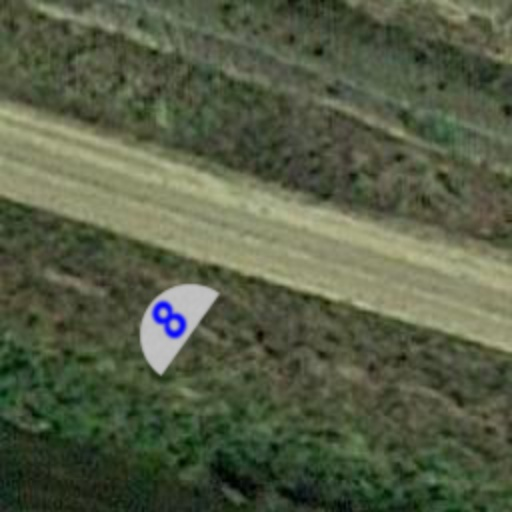semicircle: (98, 248, 242, 392)
